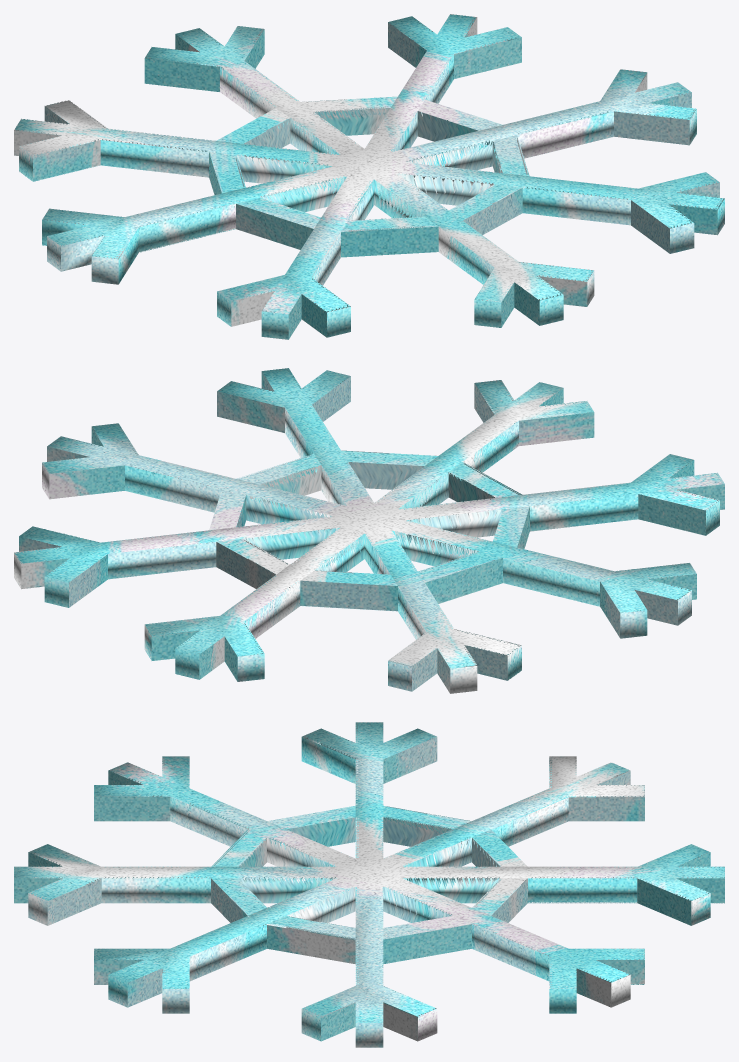
Rendered from Snowflake.FBX.
The picture shows the model from 3 angles, top to bottom: view 1: azimuth 30°, elevation 25°; view 2: azimuth 150°, elevation 25°; view 3: azimuth 270°, elevation 25°; orthographic projection. The views are drawn at different scales.
Visible parts, largest first — view 1: Box003; view 2: Box003; view 3: Box003.
Boxes of the visible parts, box(x1,y1,x2,y2) form: Box003: box(14, 14, 724, 339); Box003: box(14, 368, 724, 693); Box003: box(14, 722, 724, 1047).
Size of the model in its own units: 130 by 5 by 130.
